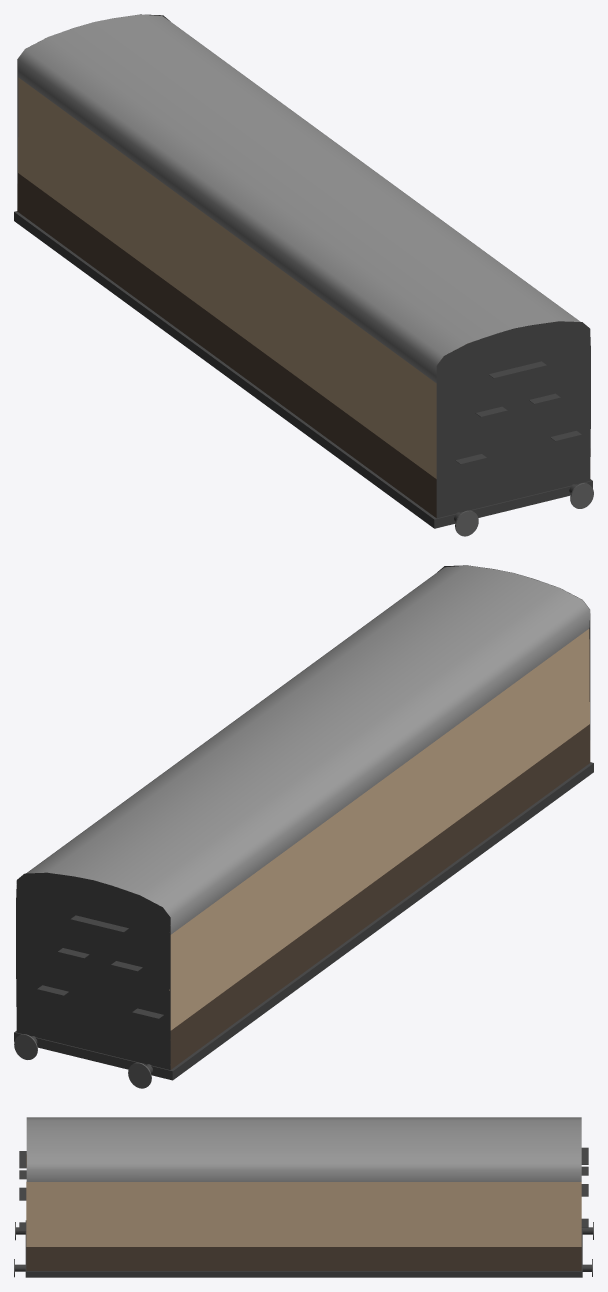
File: lswr-48ft-elliptical-body.dae
3 views of the same model, one above another, from view 1: azimuth 30°, elevation 25°; view 2: azimuth 150°, elevation 25°; view 3: azimuth 270°, elevation 25° (orthographic). The views are drawn at different scales.
Visible parts, largest first — view 1: Plane_001, Plane_003, Plane_005, Plane_002; view 2: Plane_001, Plane_003, Plane_020, Plane_002; view 3: Plane_003, Plane_001, Plane_002.
Part boxes in pixels (<box>): Plane_001: <box>17,14,580,382</box>; Plane_003: <box>17,77,590,517</box>; Plane_005: <box>436,321,590,518</box>; Plane_002: <box>14,211,592,528</box>; Plane_001: <box>16,565,590,934</box>; Plane_003: <box>169,629,590,1069</box>; Plane_020: <box>16,872,170,1069</box>; Plane_002: <box>14,762,593,1080</box>; Plane_003: <box>26,1154,581,1270</box>; Plane_001: <box>26,1117,581,1181</box>; Plane_002: <box>25,1220,582,1277</box>.
Bounding box in the file's own units: 1.8 × 8.63 × 2.05.
